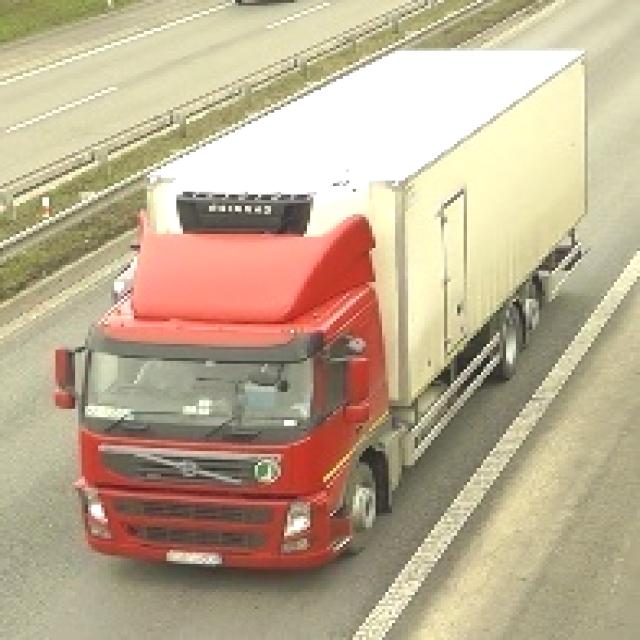TRUCK: (80, 62, 570, 574)
